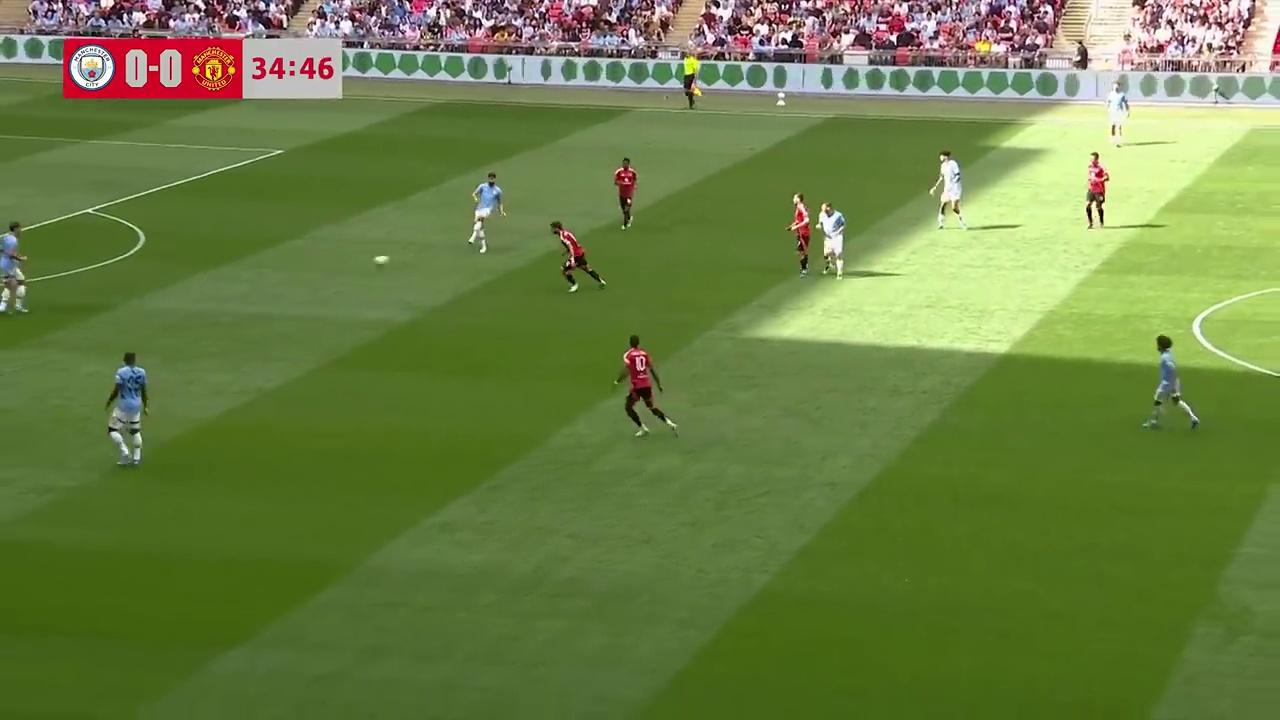ball: (371, 250, 391, 266)
player: (614, 335, 679, 439), (1141, 335, 1200, 431), (104, 351, 149, 465), (550, 220, 606, 293), (468, 172, 506, 254), (932, 151, 967, 231), (0, 226, 28, 315), (785, 193, 812, 276), (819, 202, 845, 278), (1085, 150, 1110, 229), (613, 157, 637, 230), (1106, 80, 1129, 148)
referee: (680, 52, 703, 110)
